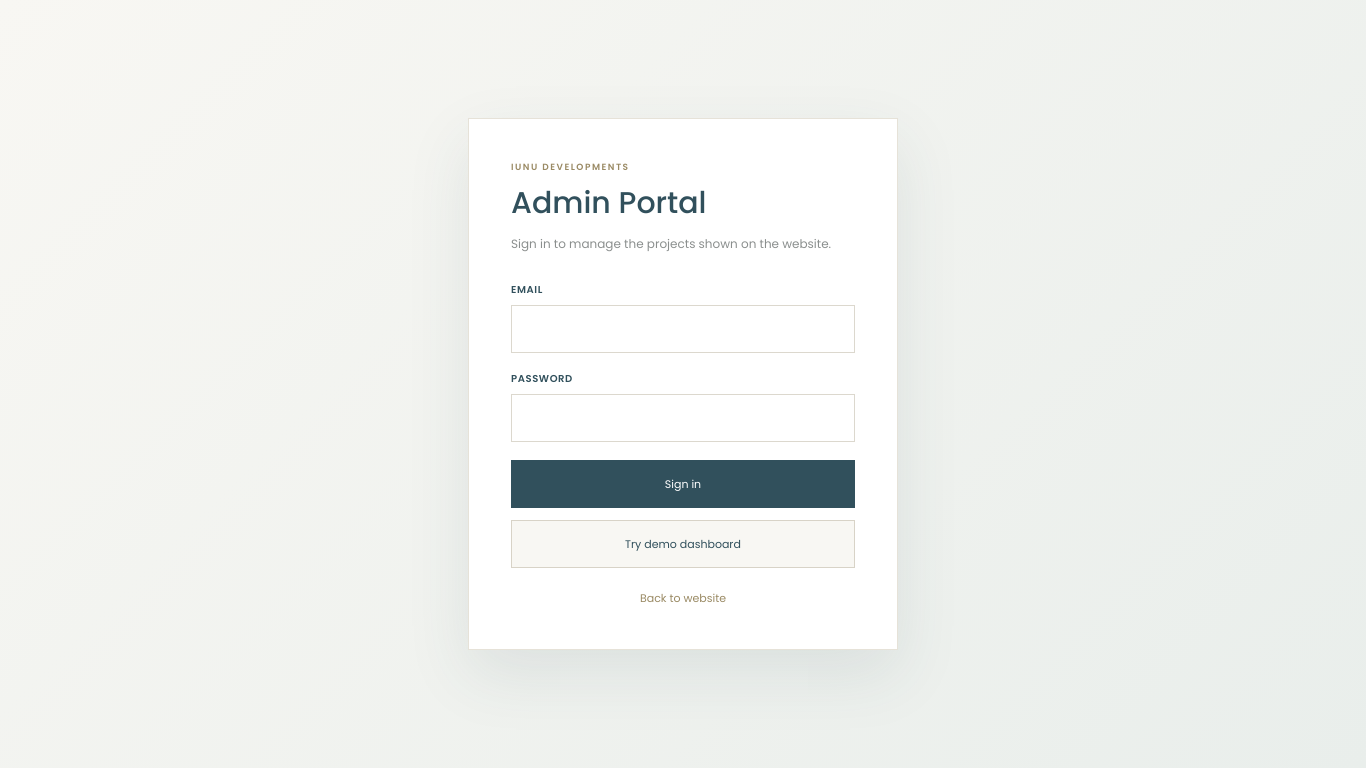
Test: Admin dashboard › a successful login reaches the dashboard
Type "admin@cypress.test" into the field labelled "Email" at coordinates (683, 329), box [511,305,855,353]
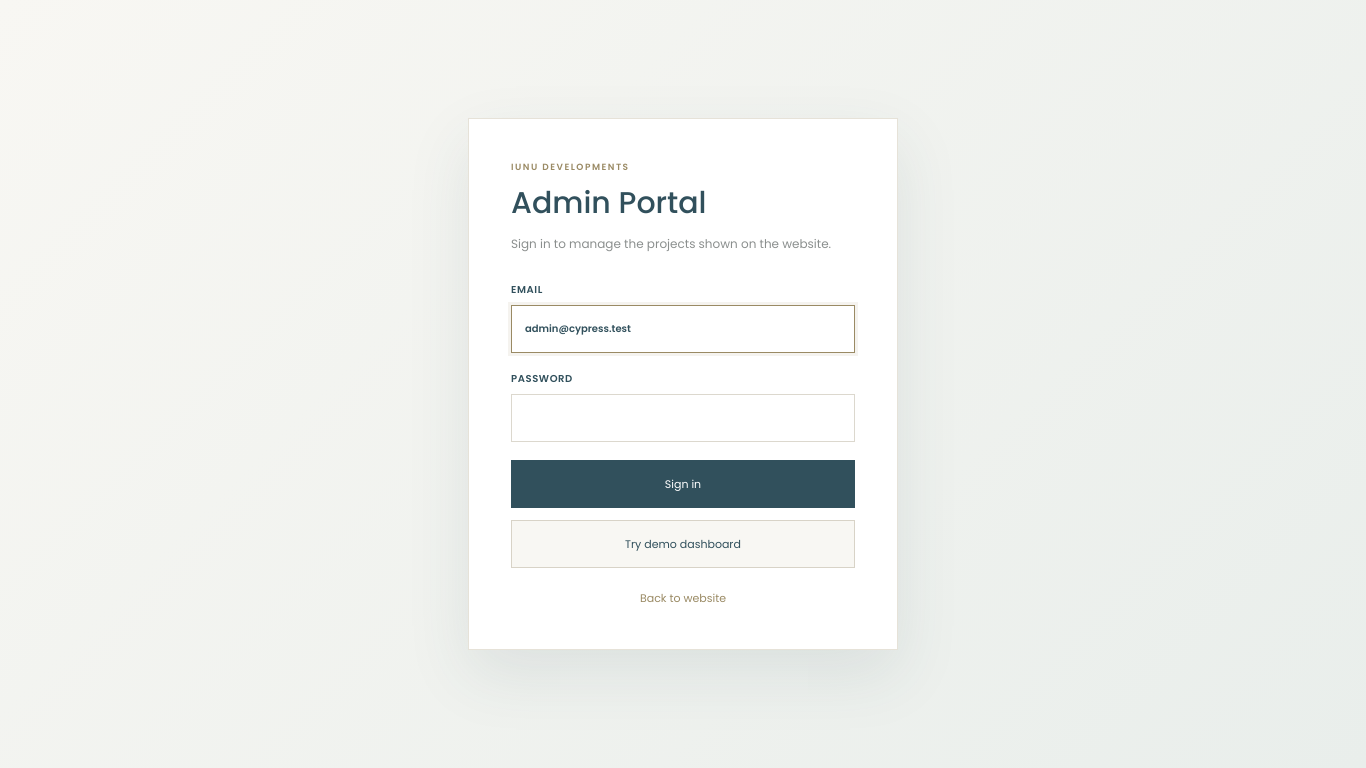
Type "not-a-real-password" into the password field labelled "Password" at coordinates (683, 418), box [511,394,855,442]
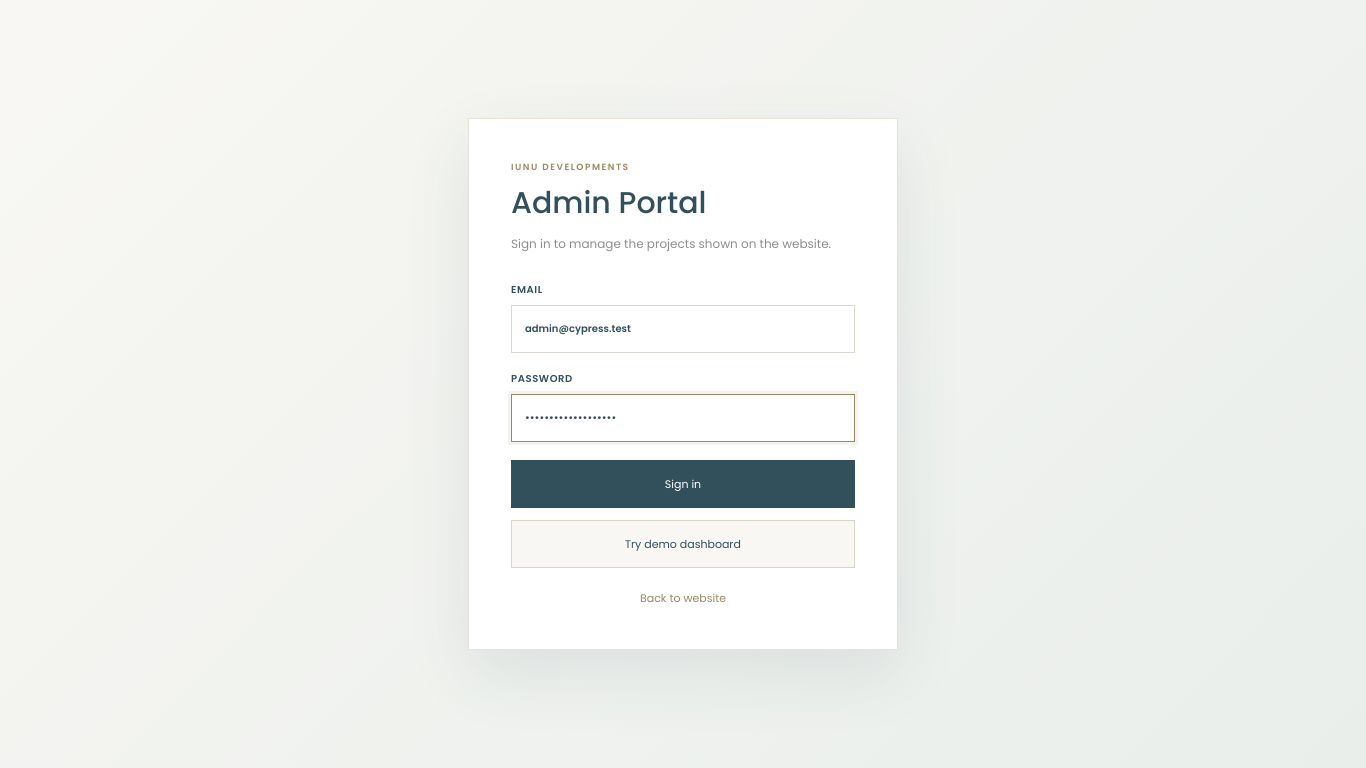
Click the button "Sign in" at coordinates (683, 484), box [511,460,855,508]
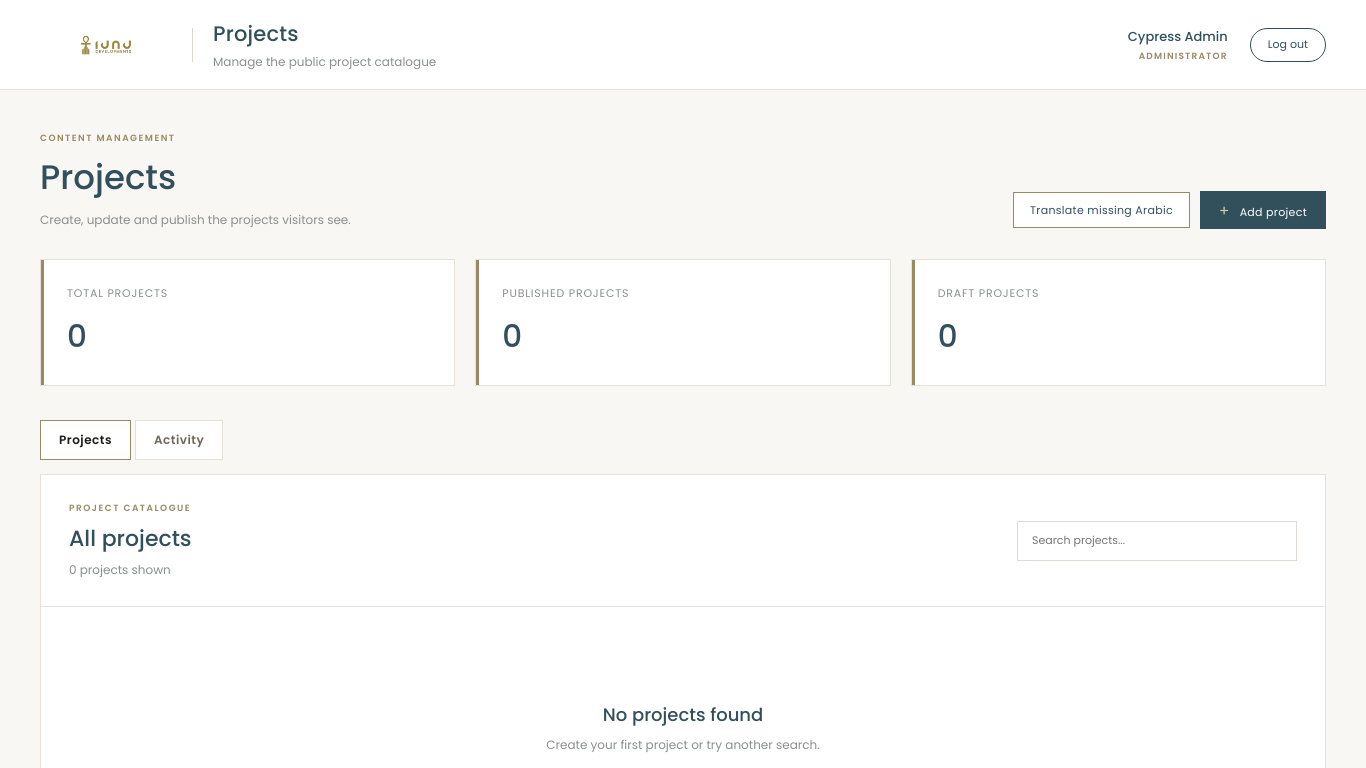
Result: the heading "All projects" is shown at [69,522,192,555]
Result: the heading "No projects found" is shown at [603,700,763,728]
Result: the heading "Admin Portal" is gone
